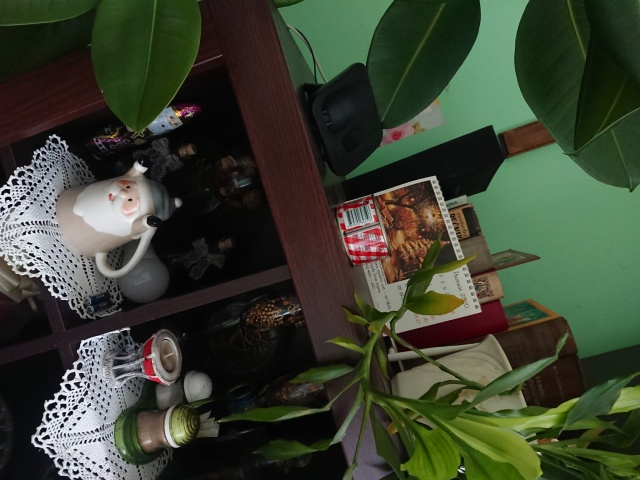Podravka Luncheon Meat 150g: (327, 190, 394, 270)
